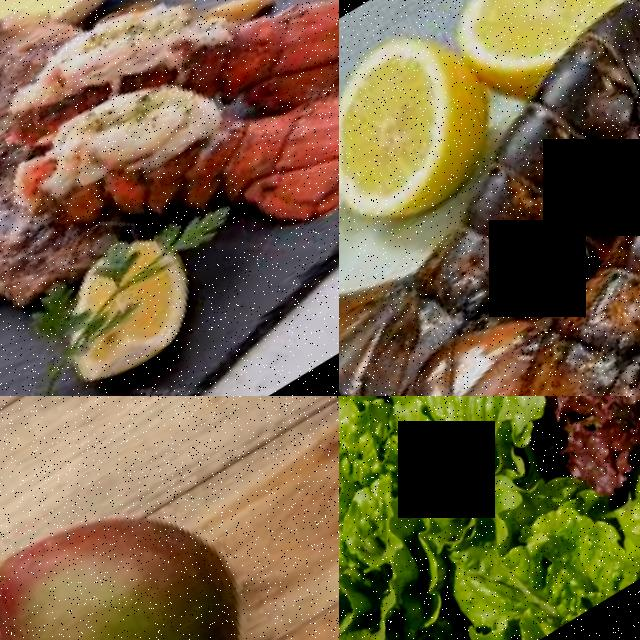lemon: (339, 2, 507, 244), (438, 0, 597, 112)
lettuce: (339, 396, 585, 640), (444, 450, 640, 640), (339, 570, 409, 640)
lobster tails: (339, 45, 640, 396), (473, 76, 640, 396), (141, 44, 339, 294), (172, 0, 339, 161)
mango: (0, 431, 313, 640)
